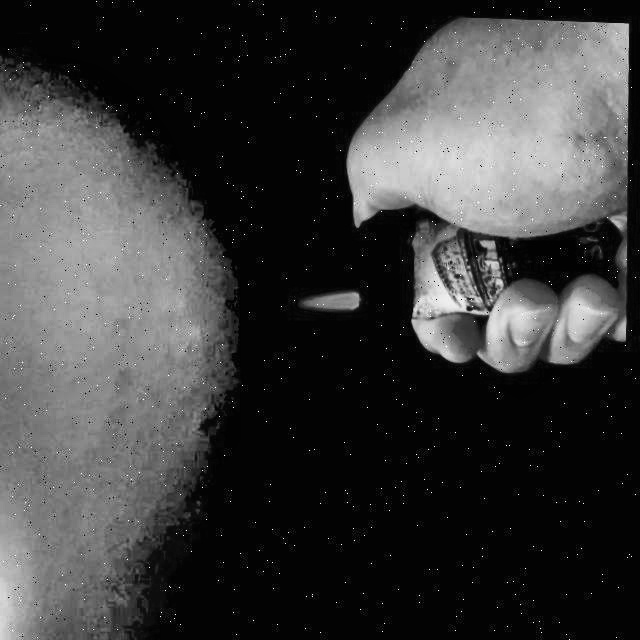Fire: (300, 284, 362, 311)
